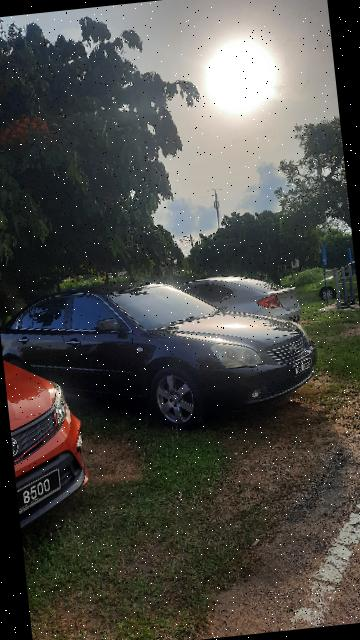License_Plate: (16, 468, 67, 510), (290, 356, 326, 381)
car: (8, 262, 328, 452), (2, 327, 111, 551)
